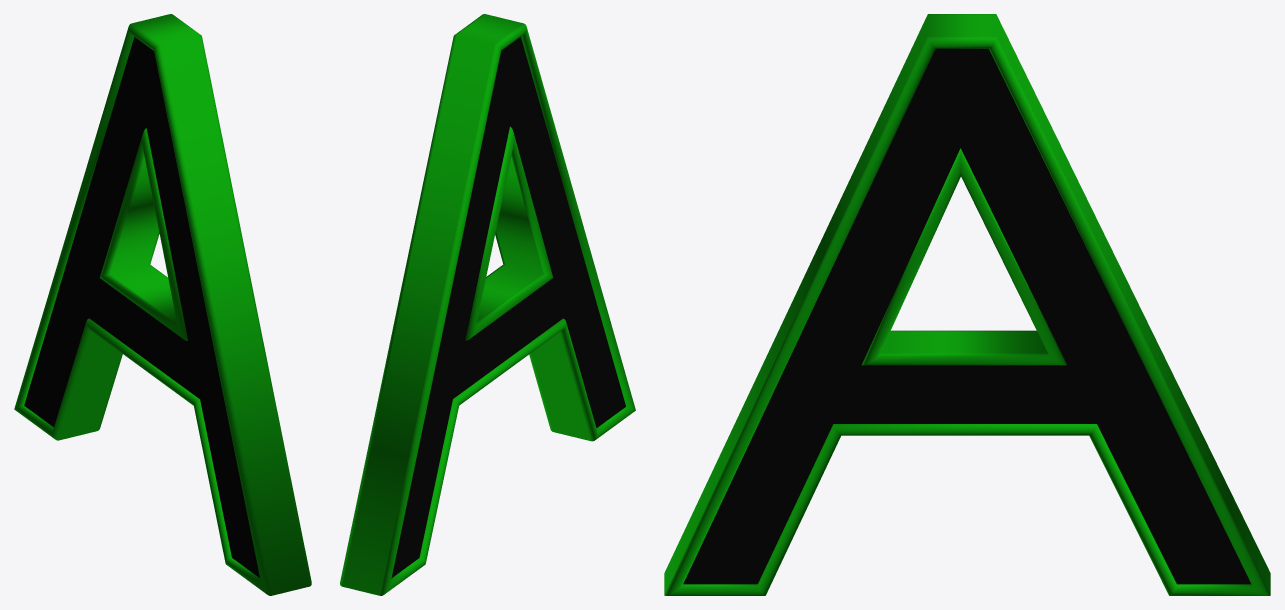
3 renders of one model, left to right at view 1: azimuth 30°, elevation 25°; view 2: azimuth 150°, elevation 25°; view 3: azimuth 270°, elevation 25°, orthographic. The views are drawn at different scales.
Visible parts, largest first — view 1: A; view 2: A; view 3: A.
Part boxes in pixels (x1,y1,x2,y2): A: [14, 14, 311, 595]; A: [340, 14, 635, 595]; A: [664, 14, 1270, 595].
Bounding box in the file's own units: 7.4 × 70 × 68.84.
